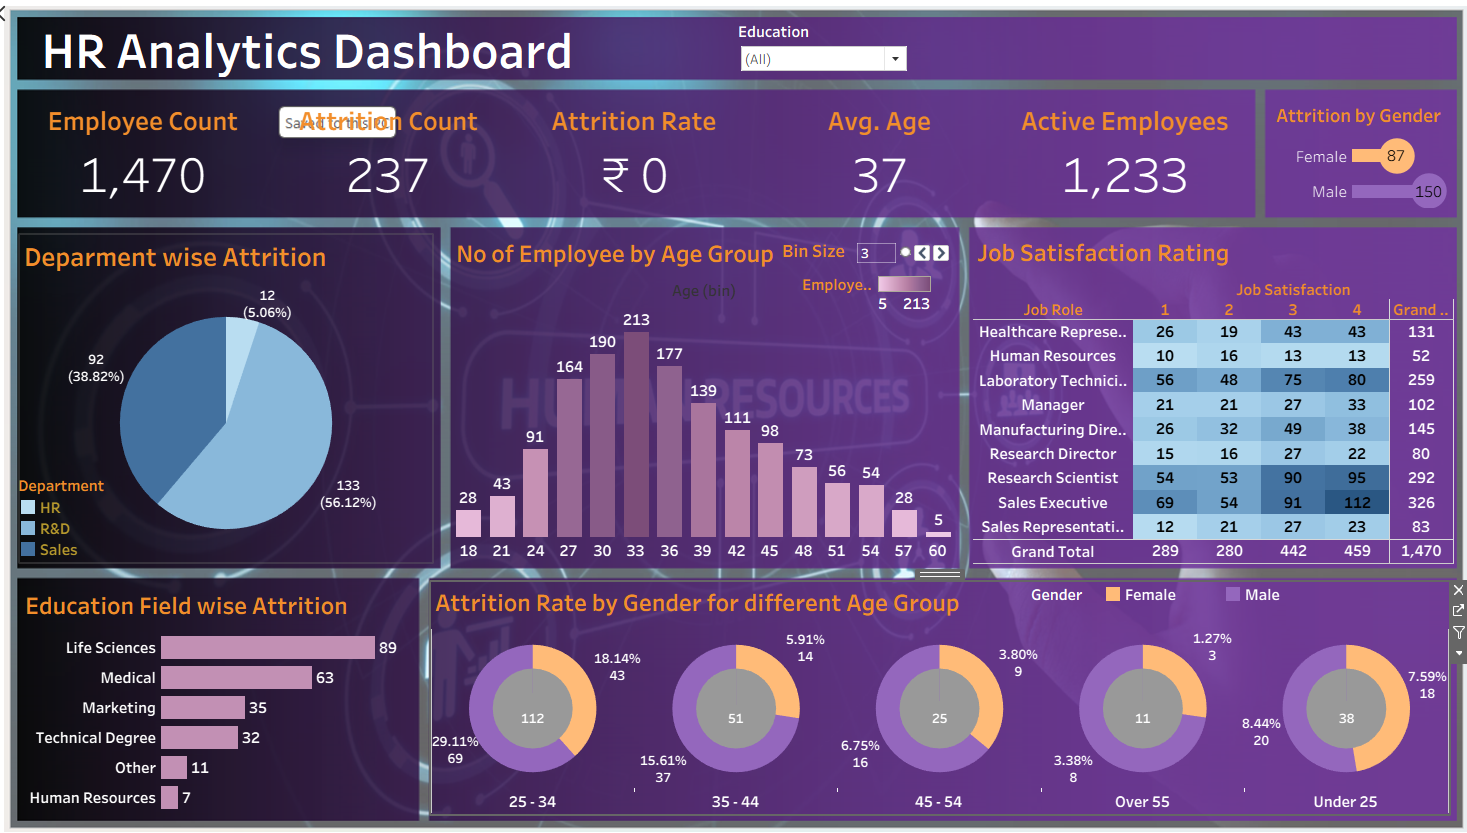

What the dashboard file says about the page in this screenshot:
{"tool":"tableau","page":{"name":"HR Analytics Dashboard","canvas":[1500,850],"ordinal":0},"visuals":[{"type":"dashboard-object","box":[0,7.6,22.8,22.7]},{"type":"image","param":"C:/Users/wifey/Pictures/HR Background image.png","box":[8,8,1484,834]},{"type":"text","box":[52,27,586,56]},{"type":"filter","title":"Deparment wise Attrition","param":"[federated.1woxke91txxjmo1csgyg21szp9nd].[none:Education:nk]","box":[752,27,172,59]},{"type":"worksheet","title":"KPI","mark":"Automatic","box":[34.2,102.9,1228.5,111.4]},{"type":"worksheet","title":"Attrition by Gender","mark":"Bar","rows":["Gender"],"cols":["Calculation_1260444989841707008","Calculation_1260444989841707008"],"box":[1286.4,103.9,179.4,110.5]},{"type":"worksheet","title":"Job Satisfaction Rating","mark":"Square","rows":["Job Role"],"cols":["Job Satisfaction"],"box":[987.3,238,481.3,331.5]},{"type":"worksheet","title":"No of Employee by Age Group","mark":"Automatic","rows":["Employee Count"],"cols":["Age (bin)"],"box":[466.1,238.9,503.2,328.7]},{"type":"worksheet","title":"Deparment wise Attrition","mark":"Pie","box":[34.2,240.8,412,326.8]},{"type":"parameter","param":"[Parameters].[Parameter 1]","box":[796,246,170,29]},{"type":"legend","title":"No of Employee by Age Group","param":"[federated.1woxke91txxjmo1csgyg21szp9nd].[sum:Employee Count:qk]","box":[815.5,277.7,132.9,45.3]},{"type":"legend","title":"Deparment wise Attrition","param":"[federated.1woxke91txxjmo1csgyg21szp9nd].[none:Department:nk]","box":[32.3,480.7,91.1,86.9]},{"type":"worksheet","title":"Attrition Rate by Gender for different Age Group","mark":"Pie","rows":["Calculation_1260444990467145733","Calculation_1260444990467145733"],"cols":["CF_age band"],"box":[445,588,1018,232]},{"type":"legend","title":"Attrition Rate by Gender for different Age Group","param":"[federated.1woxke91txxjmo1csgyg21szp9nd].[none:Gender:nk]","box":[1045,590,321,32]},{"type":"worksheet","title":"Education Field wise Attrition","mark":"Automatic","rows":["Education Field"],"cols":["Calculation_1260444989841707008"],"box":[35,591,392,227]}]}

Visuals, with their boxes in screenshot pixels (x1, y1, x2, y2), scaled from the page's 1500x850 canvas onto the 1467x833 screenshot:
dashboard-object: (0, 7, 22, 30)
image: (8, 8, 1459, 825)
text: (51, 26, 624, 81)
"Deparment wise Attrition" filter: (735, 26, 904, 84)
"KPI" worksheet: (33, 101, 1235, 210)
"Attrition by Gender" worksheet (Bar marks): (1258, 102, 1434, 210)
"Job Satisfaction Rating" worksheet (Square marks): (966, 233, 1436, 558)
"No of Employee by Age Group" worksheet: (456, 234, 948, 556)
"Deparment wise Attrition" worksheet (Pie marks): (33, 236, 436, 556)
parameter: (778, 241, 945, 270)
"No of Employee by Age Group" legend: (798, 272, 928, 317)
"Deparment wise Attrition" legend: (32, 471, 121, 556)
"Attrition Rate by Gender for different Age Group" worksheet (Pie marks): (435, 576, 1431, 804)
"Attrition Rate by Gender for different Age Group" legend: (1022, 578, 1336, 610)
"Education Field wise Attrition" worksheet: (34, 579, 418, 802)
